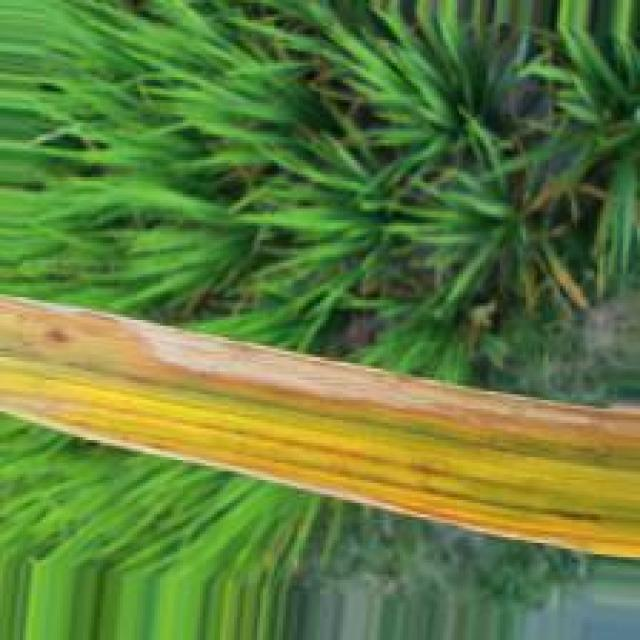Bacterial_Leaf_Blight: (0, 388, 638, 558), (103, 314, 640, 446), (2, 299, 111, 351)
